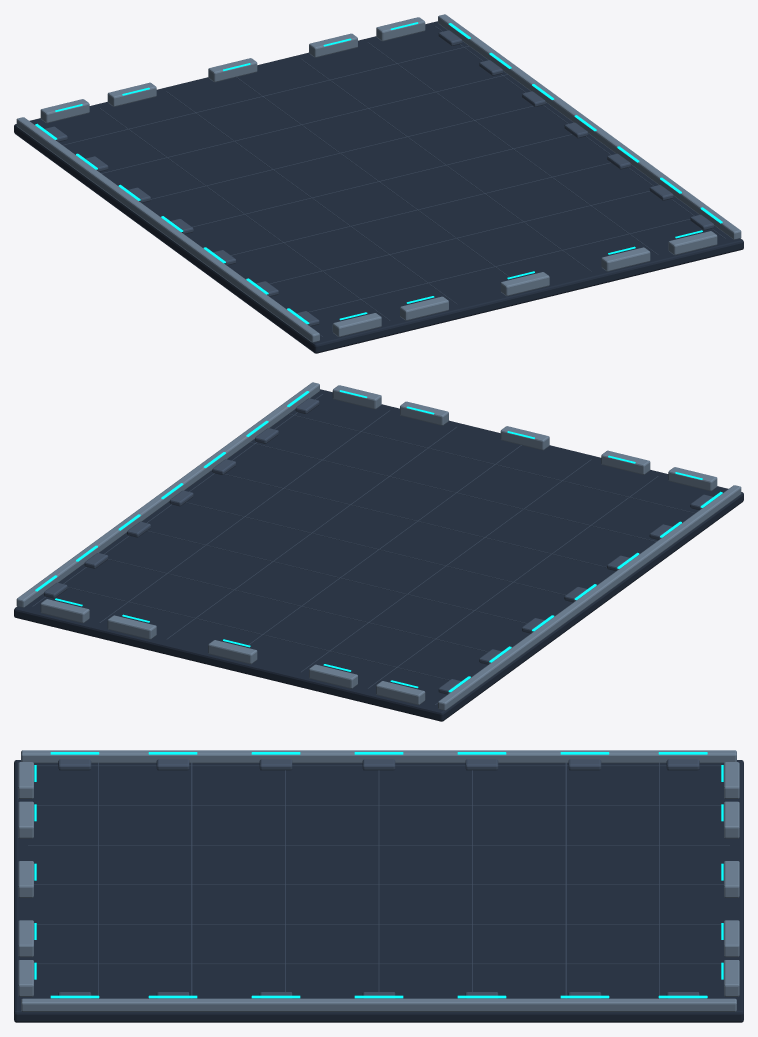
File: StationDeck.fbx
3 views of the same model, one above another, from view 1: azimuth 30°, elevation 25°; view 2: azimuth 150°, elevation 25°; view 3: azimuth 270°, elevation 25° (orthographic). The views are drawn at different scales.
Visible parts, largest first — view 1: Station deck, Station edge rail, Station edge rail.001, Airlock bulkhead.003, Airlock bulkhead.004, Airlock bulkhead.002, Airlock bulkhead, Airlock bulkhead.001, Airlock bulkhead.005, Airlock bulkhead.007, Airlock bulkhead.006, Airlock bulkhead.009 (+1 smaller); view 2: Station deck, Station edge rail, Station edge rail.001, Airlock bulkhead.008, Airlock bulkhead.009, Airlock bulkhead.007, Airlock bulkhead.005, Airlock bulkhead.006, Airlock bulkhead, Airlock bulkhead.002, Airlock bulkhead.001, Airlock bulkhead.004 (+1 smaller); view 3: Station deck, Station edge rail.001, Station edge rail, Deck seam.005, Deck seam, Deck seam.002, Deck seam.003, Deck seam.001, Deck seam.004, Airlock bulkhead.001, Airlock bulkhead.003, Airlock bulkhead.006 (+9 smaller).
Part boxes in pixels (bbox=[...]): Station deck: bbox=[14, 21, 743, 353]; Station edge rail: bbox=[16, 117, 319, 342]; Station edge rail.001: bbox=[438, 14, 741, 239]; Airlock bulkhead.003: bbox=[601, 247, 650, 271]; Airlock bulkhead.004: bbox=[668, 231, 717, 255]; Airlock bulkhead.002: bbox=[500, 272, 549, 296]; Airlock bulkhead: bbox=[332, 313, 381, 336]; Airlock bulkhead.001: bbox=[400, 296, 448, 320]; Airlock bulkhead.005: bbox=[40, 99, 89, 123]; Airlock bulkhead.007: bbox=[208, 58, 257, 82]; Airlock bulkhead.006: bbox=[107, 82, 156, 106]; Airlock bulkhead.009: bbox=[376, 17, 425, 41]; Station deck: bbox=[14, 389, 743, 721]; Station edge rail: bbox=[438, 485, 741, 710]; Station edge rail.001: bbox=[16, 382, 319, 607]; Airlock bulkhead.008: bbox=[107, 615, 156, 639]; Airlock bulkhead.009: bbox=[40, 599, 89, 623]; Airlock bulkhead.007: bbox=[208, 640, 257, 664]; Airlock bulkhead.005: bbox=[376, 681, 425, 704]; Airlock bulkhead.006: bbox=[309, 664, 357, 688]; Airlock bulkhead: bbox=[668, 467, 717, 491]; Airlock bulkhead.002: bbox=[500, 426, 549, 450]; Airlock bulkhead.001: bbox=[601, 450, 650, 474]; Airlock bulkhead.004: bbox=[332, 385, 381, 409]; Station deck: bbox=[14, 760, 743, 1022]; Station edge rail.001: bbox=[21, 998, 736, 1011]; Station edge rail: bbox=[21, 750, 736, 763]; Deck seam.005: bbox=[37, 963, 720, 964]; Deck seam: bbox=[37, 765, 720, 766]; Deck seam.002: bbox=[28, 845, 729, 845]; Deck seam.003: bbox=[34, 884, 723, 884]; Deck seam.001: bbox=[34, 805, 723, 805]; Deck seam.004: bbox=[34, 924, 723, 924]; Airlock bulkhead.001: bbox=[18, 801, 33, 838]; Airlock bulkhead.003: bbox=[18, 920, 33, 957]; Airlock bulkhead.006: bbox=[724, 801, 739, 838].
Size of the model in its own units: 640 by 30.25 by 780.
